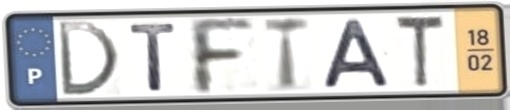A: (317, 17, 395, 90)
D: (53, 19, 123, 99)
F: (184, 16, 257, 98)
T: (392, 13, 447, 92), (261, 14, 312, 94), (127, 21, 180, 94)
